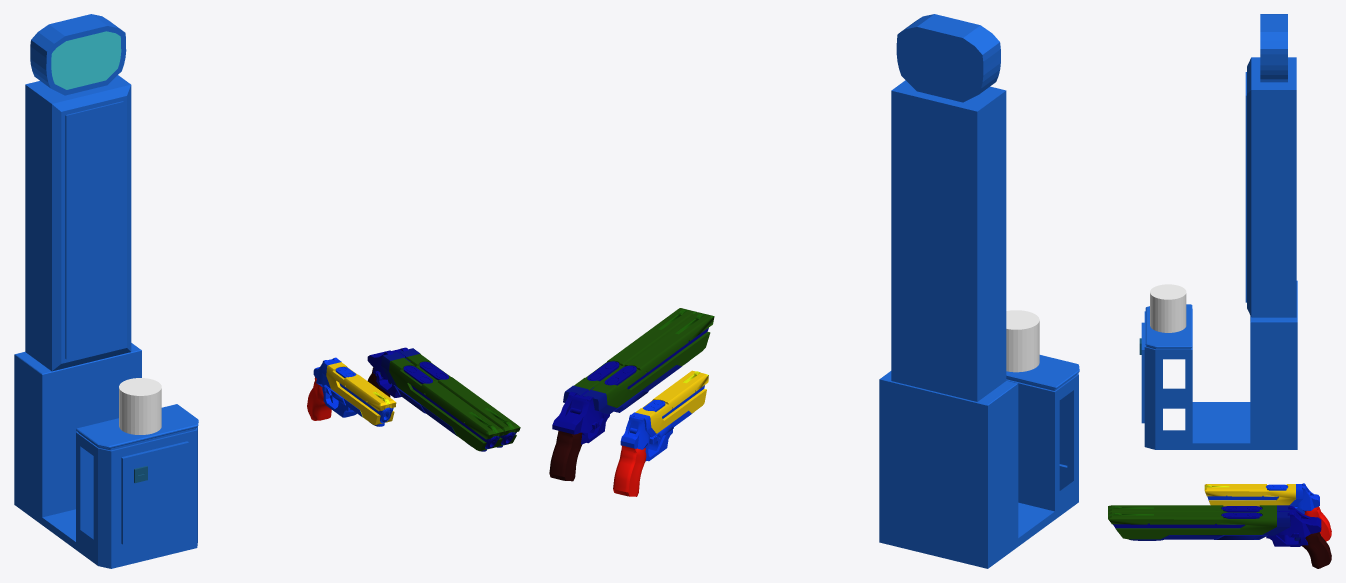
The model's file is guns.fbx.
3 renders of one model, left to right at view 1: azimuth 30°, elevation 25°; view 2: azimuth 150°, elevation 25°; view 3: azimuth 270°, elevation 25°, orthographic. The views are drawn at different scales.
Visible parts, largest first — view 1: Plane, f_pistol_low_01.002, f_pistol_low_01.003; view 2: Plane, f_pistol_low_01.002, f_pistol_low_01.003; view 3: Plane, f_pistol_low_01.002, f_pistol_low_01.003.
Part boxes in pixels (<box>): Plane: <box>14,14,198,568</box>; f_pistol_low_01.002: <box>367,347,520,451</box>; f_pistol_low_01.003: <box>307,357,396,426</box>; Plane: <box>879,14,1079,568</box>; f_pistol_low_01.002: <box>549,308,714,481</box>; f_pistol_low_01.003: <box>613,370,708,496</box>; Plane: <box>1139,14,1297,449</box>; f_pistol_low_01.002: <box>1108,505,1331,568</box>; f_pistol_low_01.003: <box>1204,483,1331,541</box>.
Size of the model in its own units: 797 by 916 by 456.
